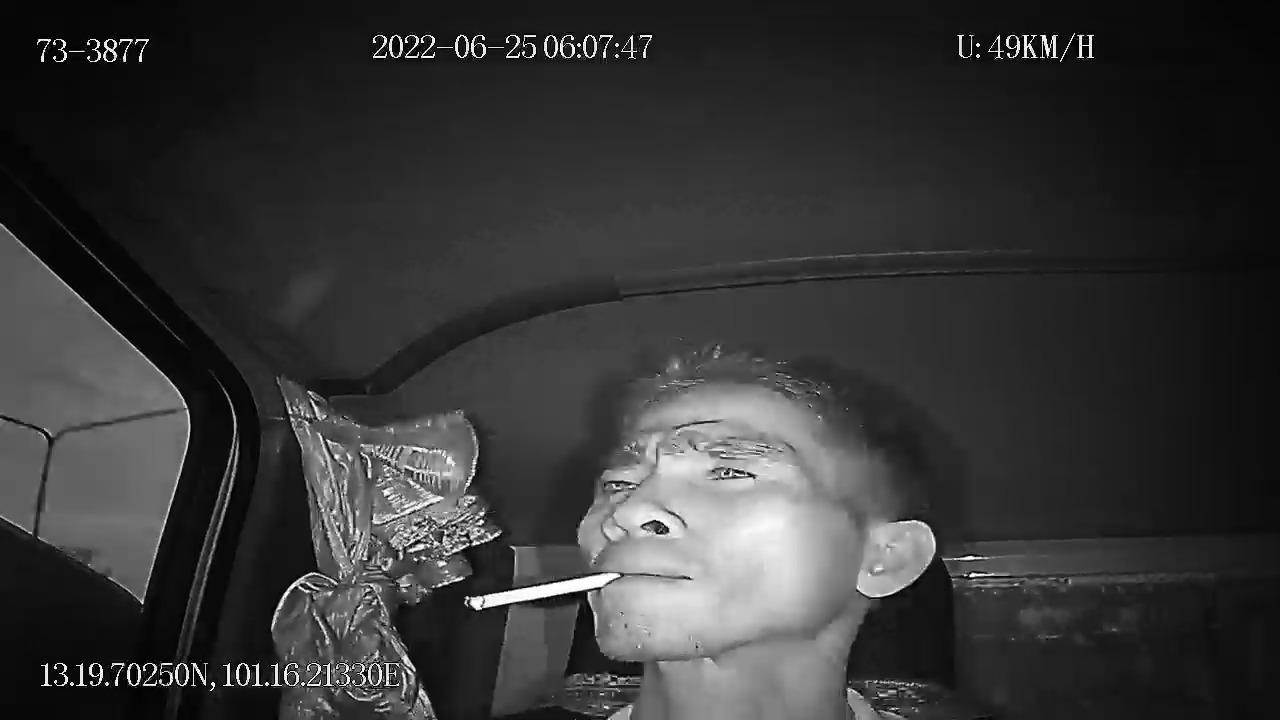Smoking: (449, 565, 644, 630)
